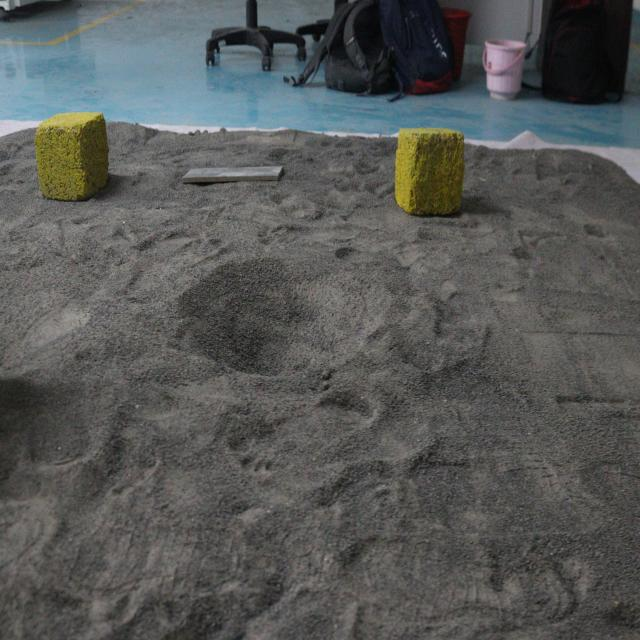box: (391, 120, 469, 225), (40, 103, 109, 211)
crater: (159, 242, 412, 395)
